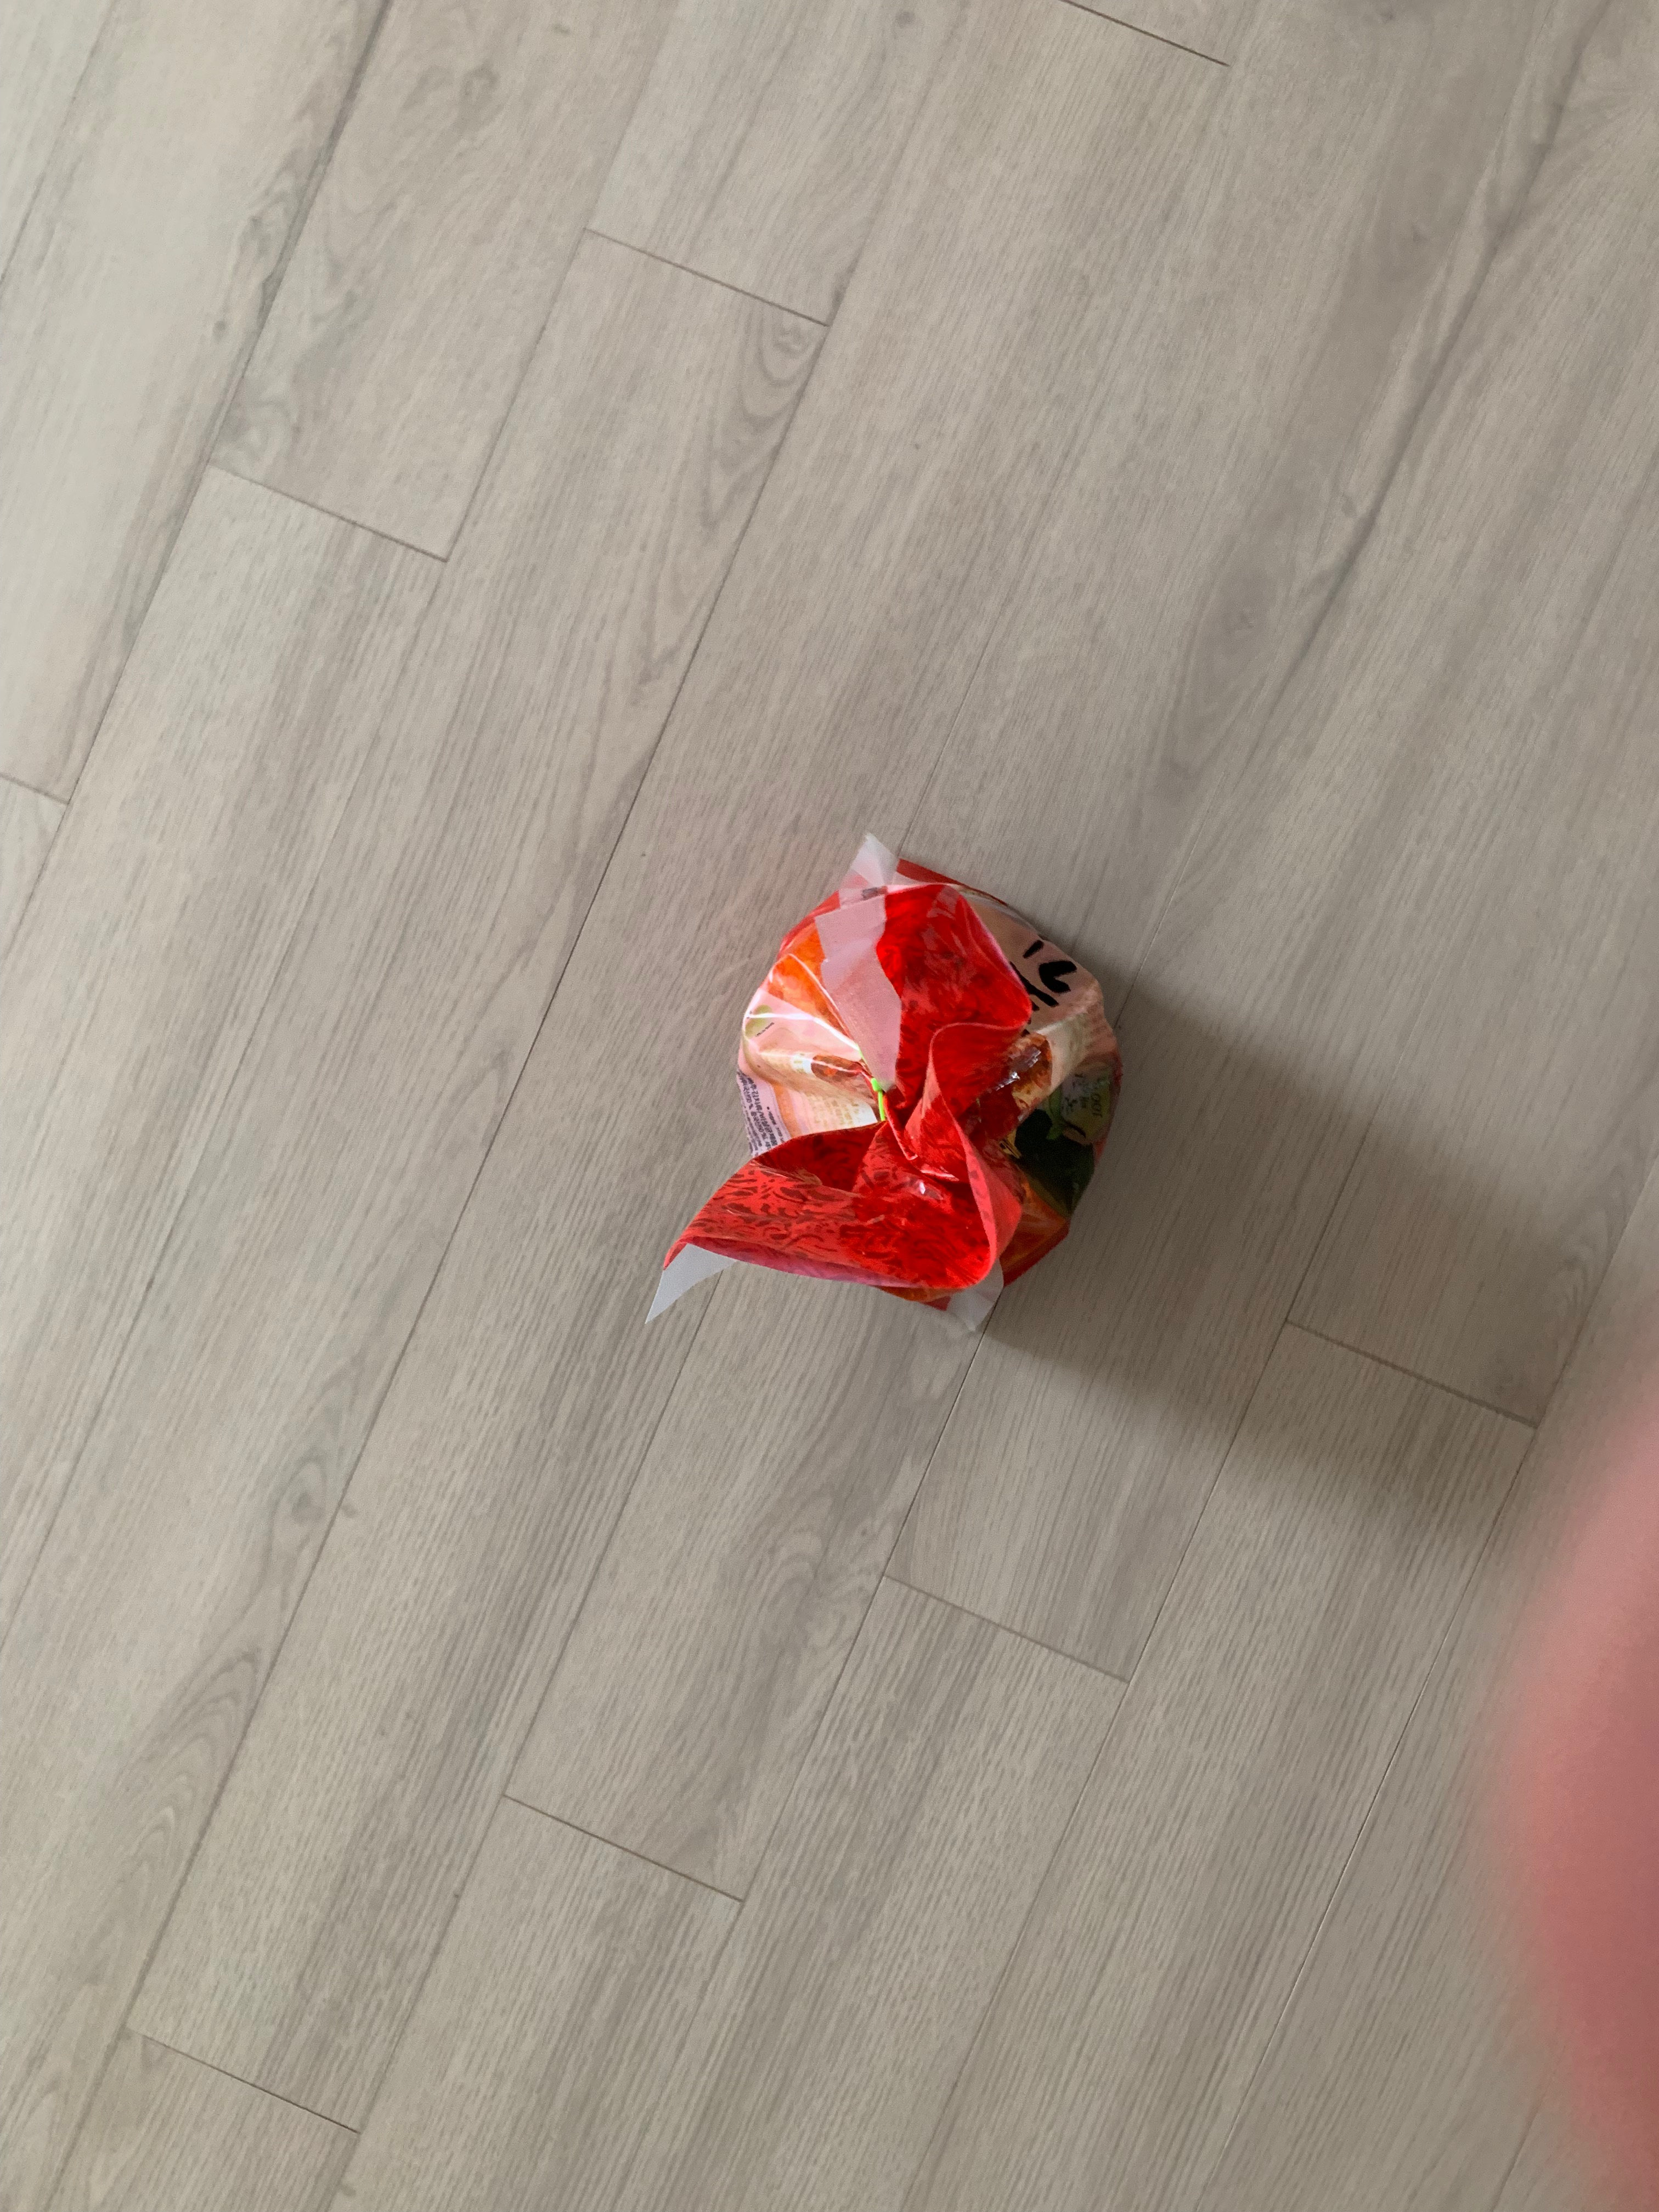kimchi: (701, 859, 1126, 1312)
